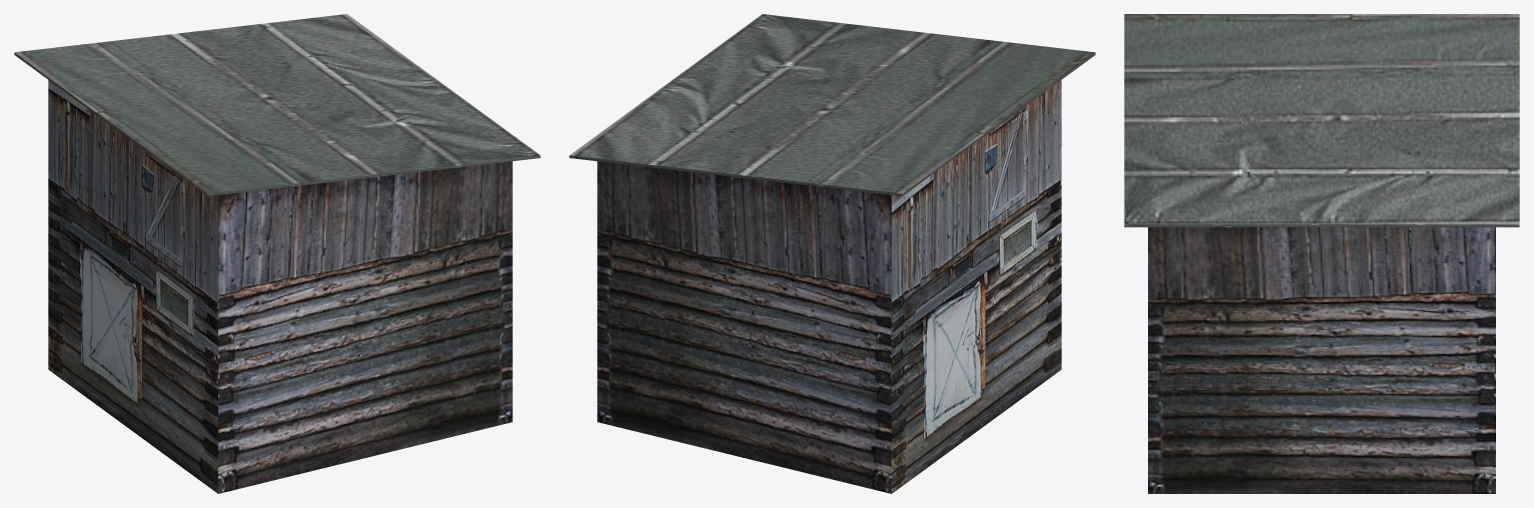
File: d_saray_4.FBX
The picture shows the model from 3 angles, left to right: view 1: azimuth 30°, elevation 25°; view 2: azimuth 150°, elevation 25°; view 3: azimuth 270°, elevation 25°; orthographic projection. The views are drawn at different scales.
Visible parts, largest first — view 1: d_saray_4; view 2: d_saray_4; view 3: d_saray_4.
Boxes of the visible parts, x1,y1,x2,y2 form: d_saray_4: (14, 14, 540, 493); d_saray_4: (569, 14, 1095, 493); d_saray_4: (1124, 14, 1519, 493).
Bounding box in the file's own units: 4.53 × 4.55 × 4.08.
